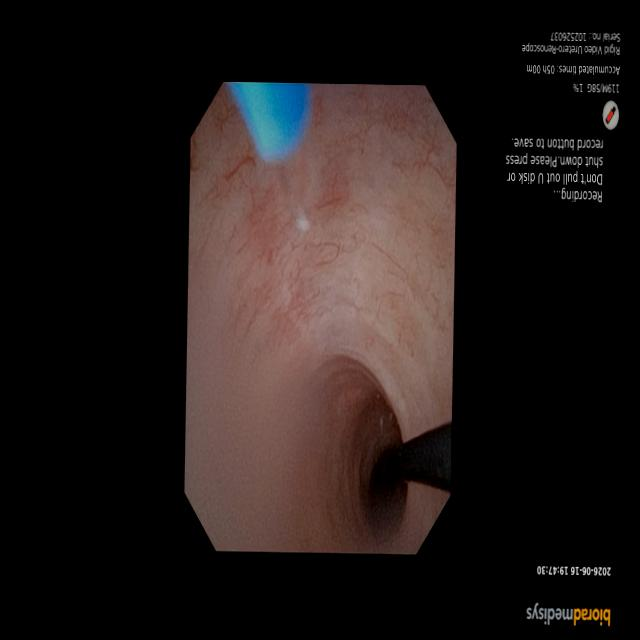laser-fibre: (276, 130, 316, 227)
